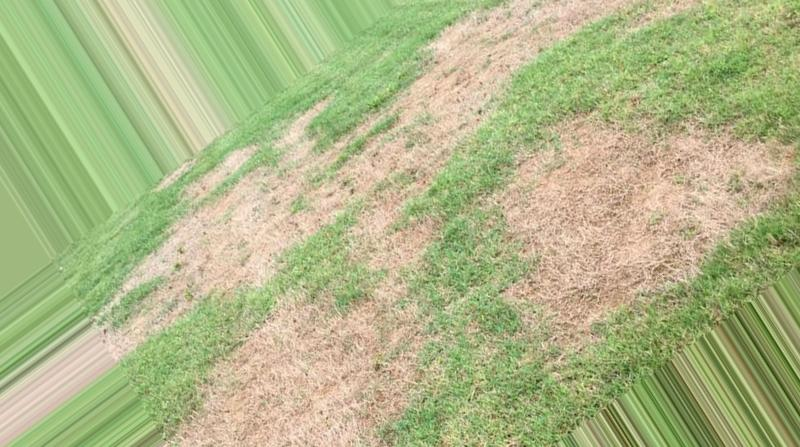patch: (500, 136, 759, 227), (204, 363, 393, 447), (501, 233, 635, 321), (261, 306, 417, 361), (636, 233, 724, 307), (198, 176, 347, 217), (166, 233, 289, 277), (464, 3, 547, 60), (361, 214, 424, 266), (362, 149, 444, 185), (418, 76, 479, 118)
